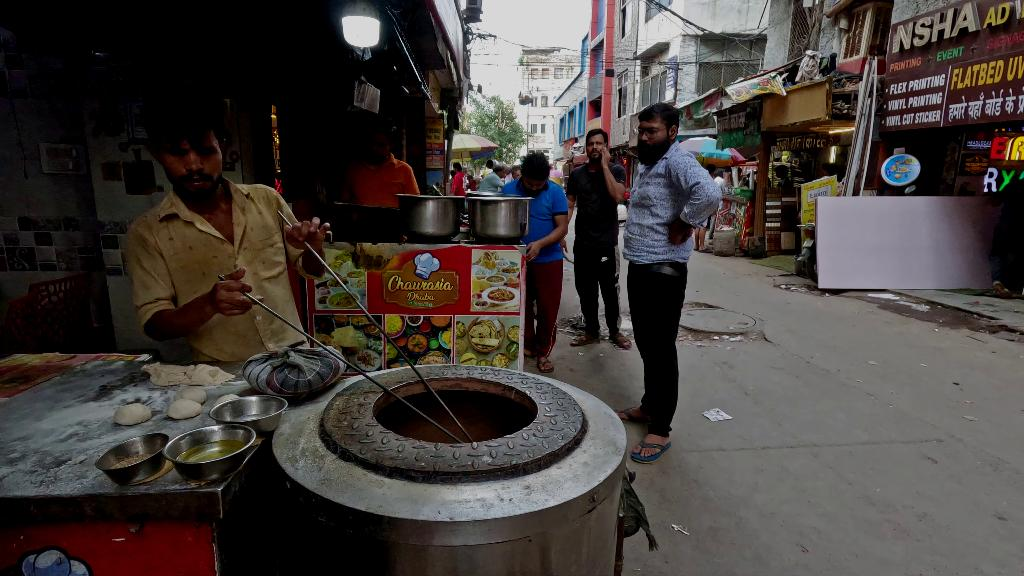garbage: (700, 404, 733, 425)
